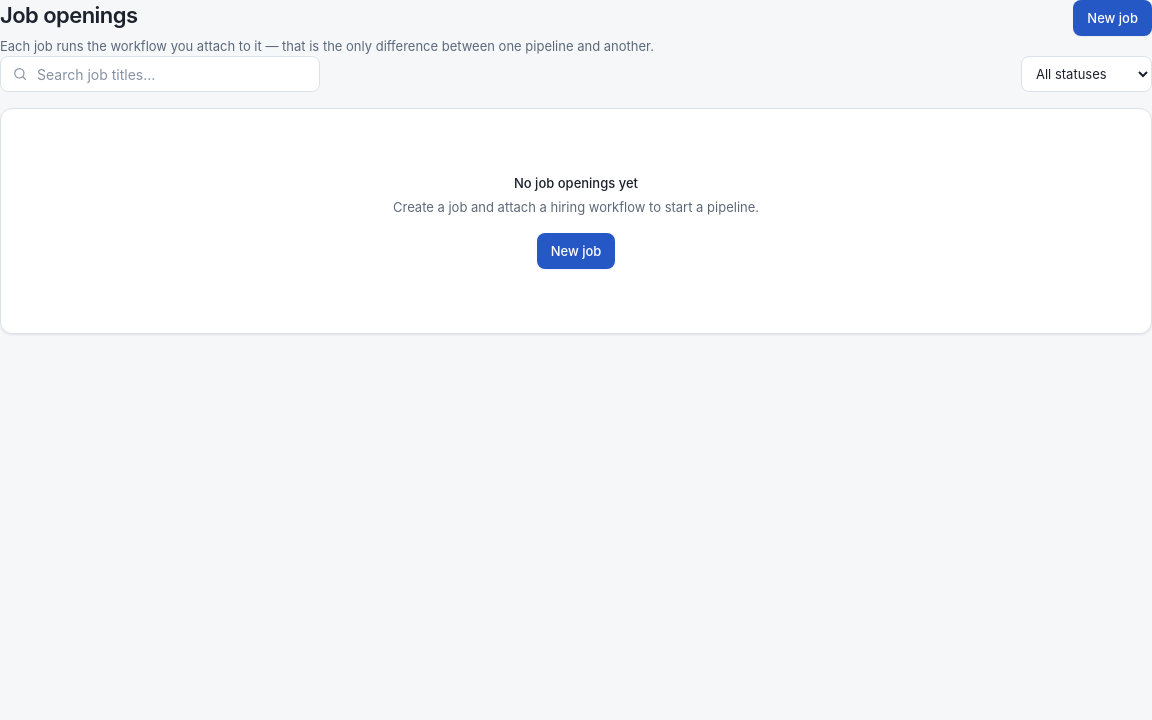
Test case: the job opening form, as a Recruiter › populates every required dropdown
Click the 1st button "New job".
click(1113, 18)  # box 1073,0 -> 1151,36
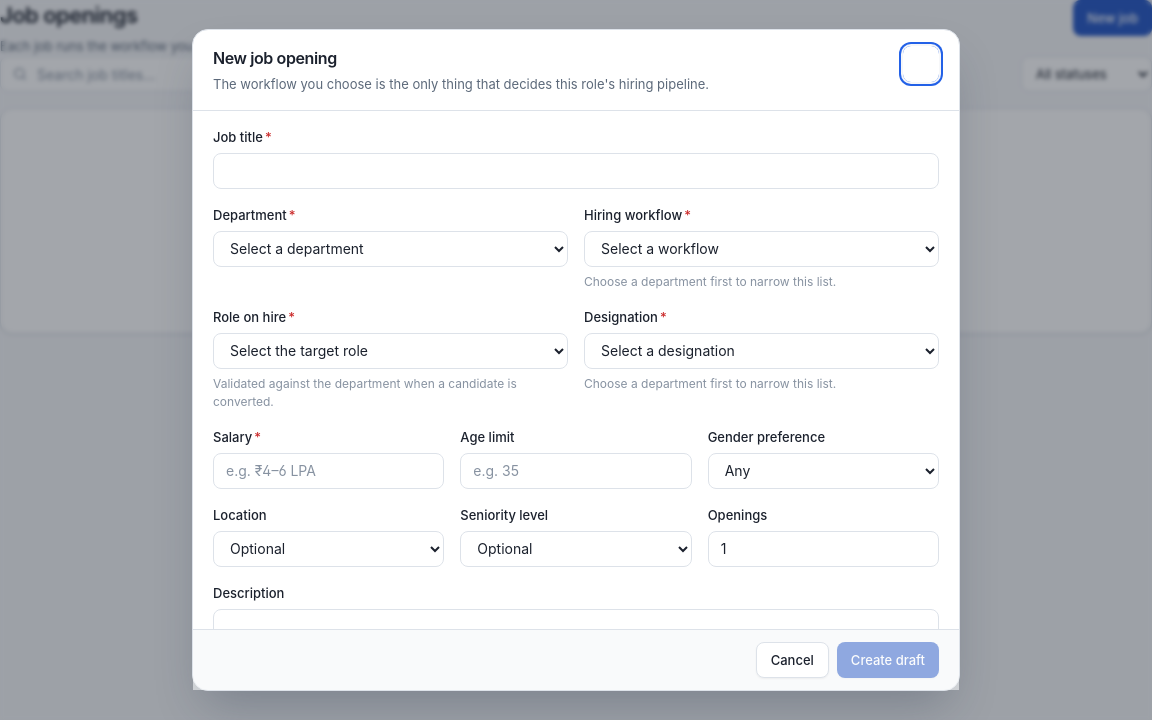
Now the heading "New job opening" is shown, box 213,48 -> 337,68
